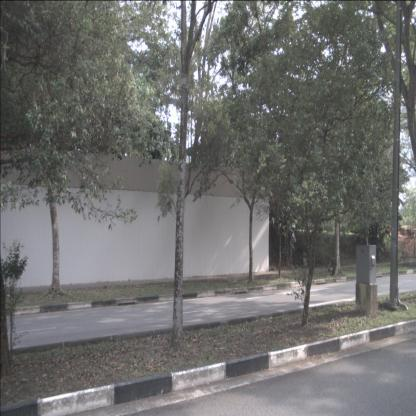vehicle-bicycle: (326, 254, 339, 277)
